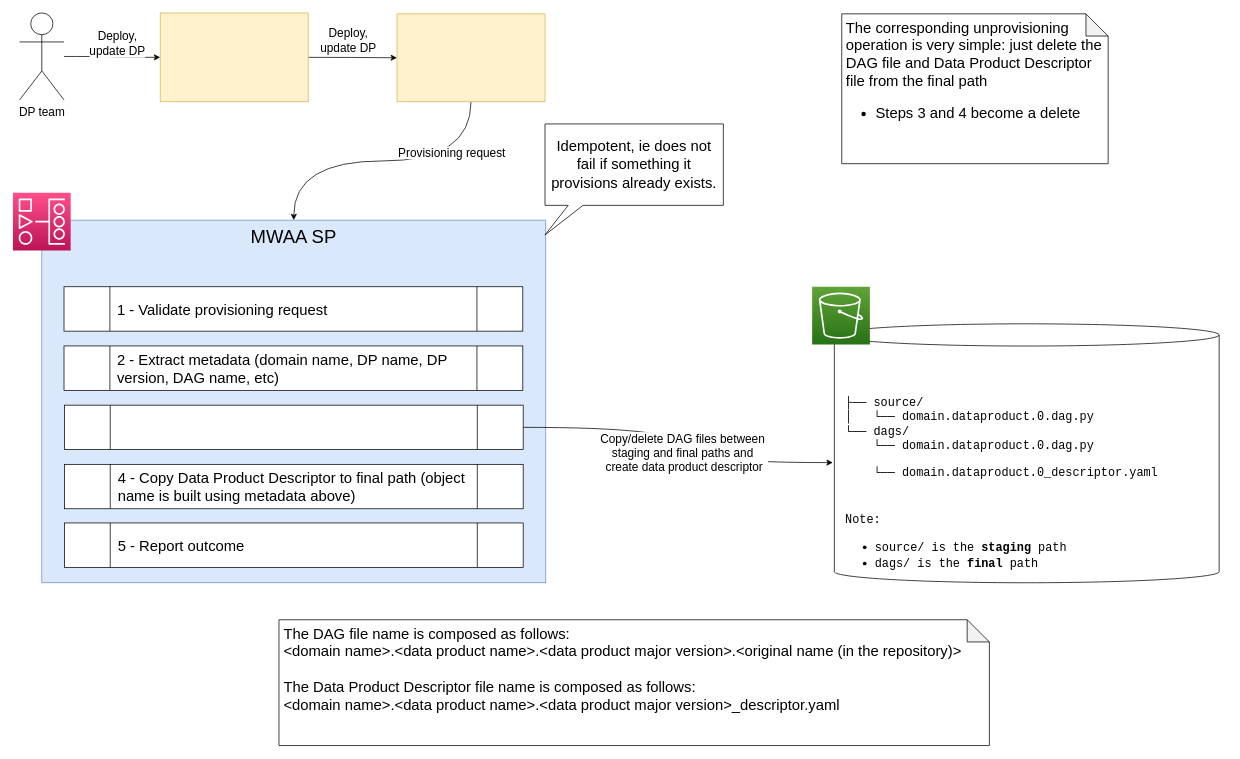
Some shapes in this 1240 by 759 pixel diagram are drawn without their labels. The box of each missing label's shape, as (x1, y1, x2, y2) in pixels:
3 - Copy DAG to final path (object name is built using metadata above): (64, 404, 523, 450)
MWAA S3 Bucket: (834, 323, 1219, 583)
Provisioning Coordinator: (396, 13, 545, 102)
Witboost: (159, 12, 308, 102)
